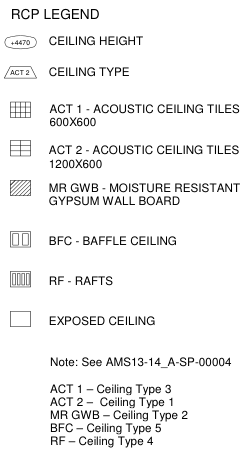hatch: (1, 63, 40, 82), (3, 31, 39, 51), (7, 98, 33, 121), (6, 178, 34, 199), (8, 227, 33, 250), (7, 137, 34, 158), (8, 308, 34, 329), (8, 269, 33, 288)
label: (44, 138, 241, 171), (46, 96, 241, 128), (45, 177, 240, 207), (45, 230, 181, 249), (46, 313, 167, 329), (46, 62, 135, 80), (45, 33, 147, 47), (47, 272, 119, 289)
